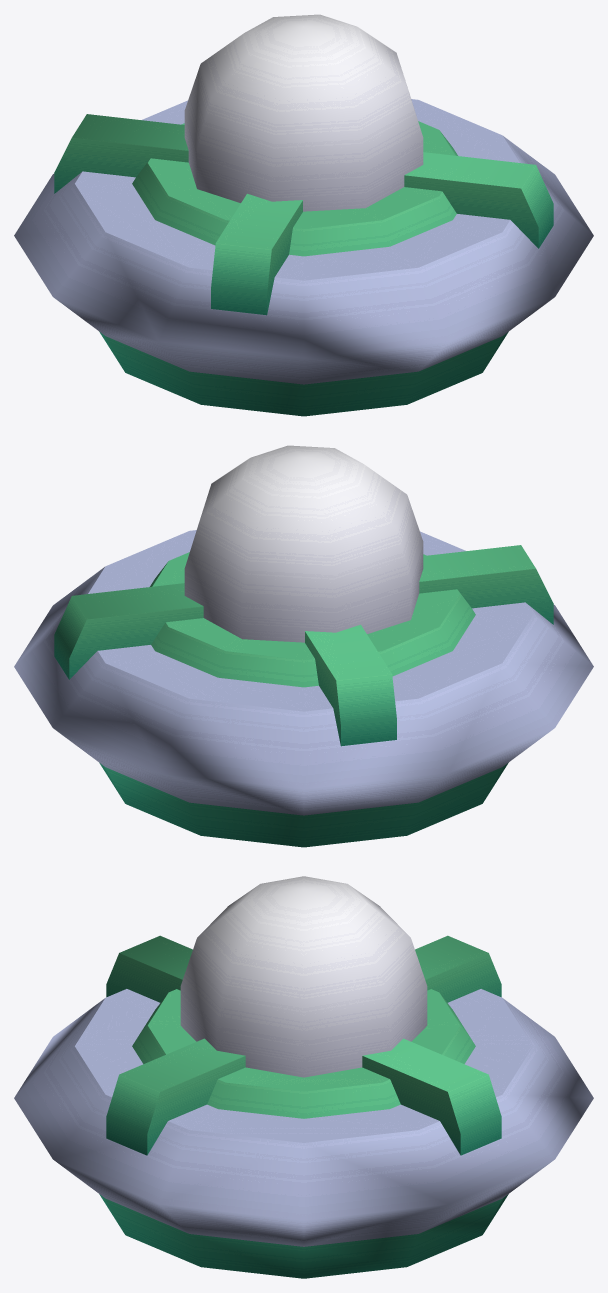
Rendered from enemy-ufo-b.glb.
3 renders of one model, top to bottom at view 1: azimuth 30°, elevation 25°; view 2: azimuth 150°, elevation 25°; view 3: azimuth 270°, elevation 25°, orthographic.
Parts seen in each view (by area): view 1: enemy-ufo-b; view 2: enemy-ufo-b; view 3: enemy-ufo-b.
Boxes of the visible parts, x1,y1,x2,y2 form: enemy-ufo-b: (14, 14, 593, 416); enemy-ufo-b: (14, 445, 593, 847); enemy-ufo-b: (14, 876, 593, 1278).
Bounding box in the file's own units: 0.9994 × 0.5754 × 1.
Materials: 1 (1 with a texture image).
